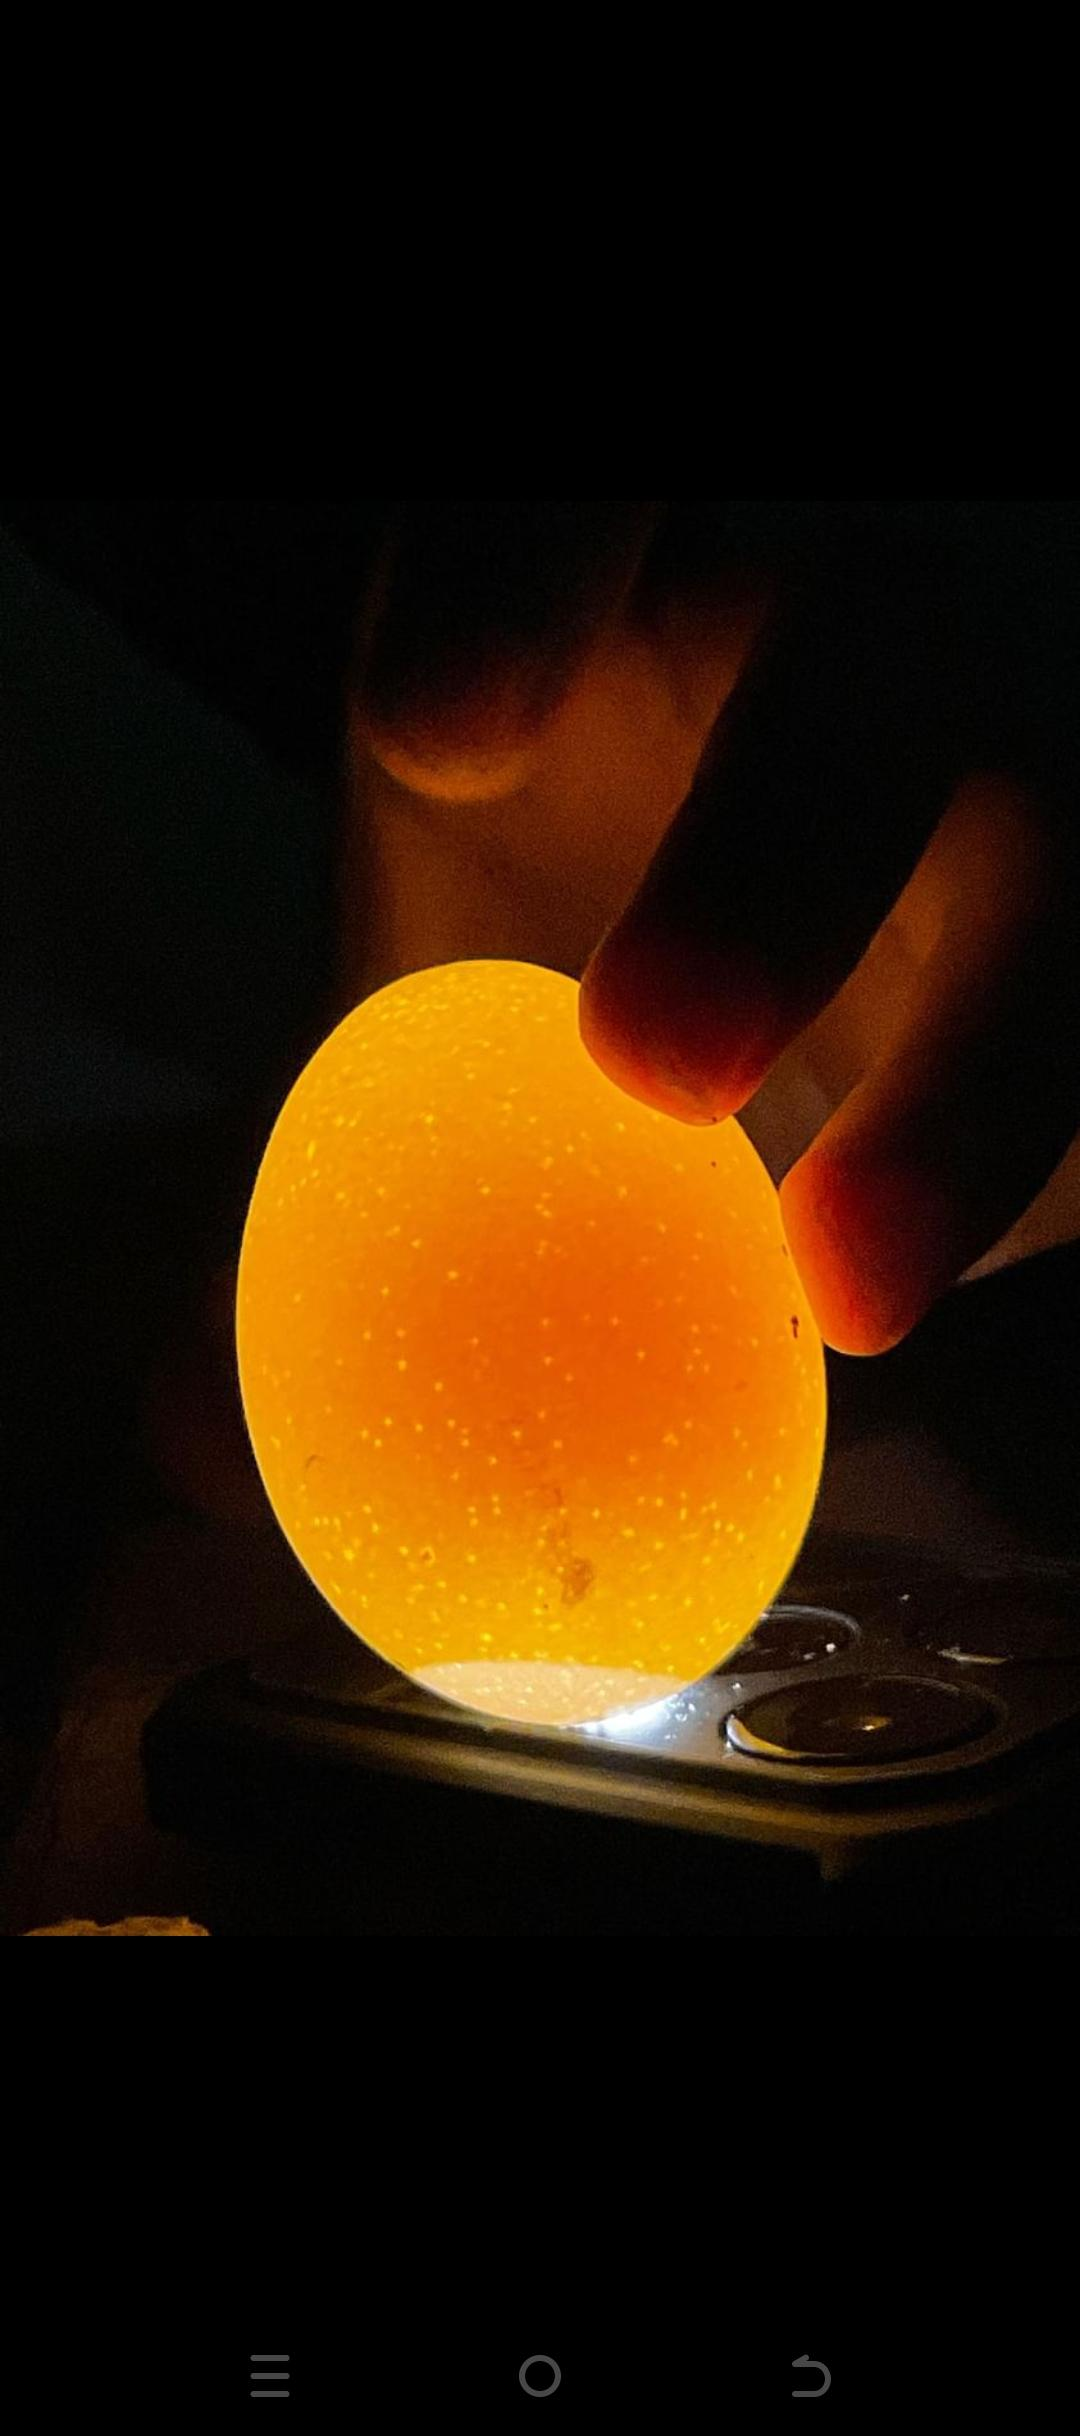A - Good: (207, 940, 856, 1793)
